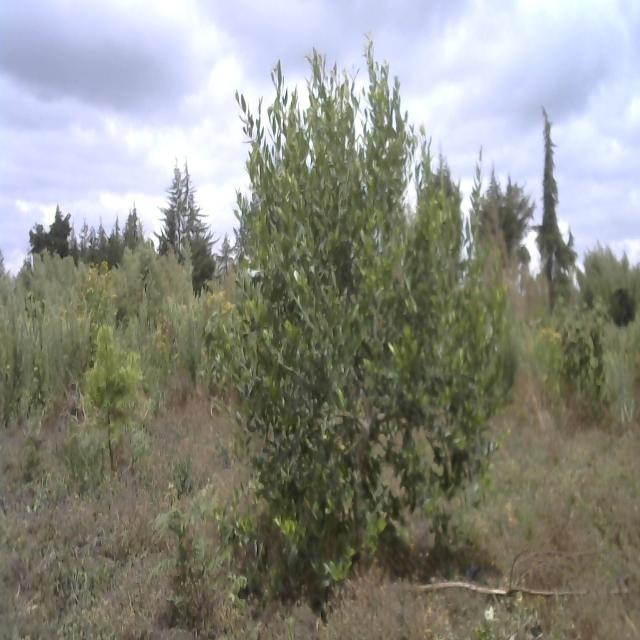Dombeya torrida: (234, 71, 513, 597)
Juniperus procesera: (534, 96, 578, 294), (157, 137, 206, 289), (42, 200, 76, 266), (125, 196, 144, 286), (85, 207, 108, 262), (109, 211, 124, 268)
Podocarpus falcatus: (78, 280, 142, 467)
